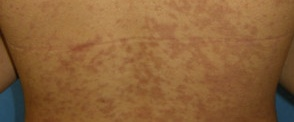SJS-TEN: (27, 0, 281, 122)
